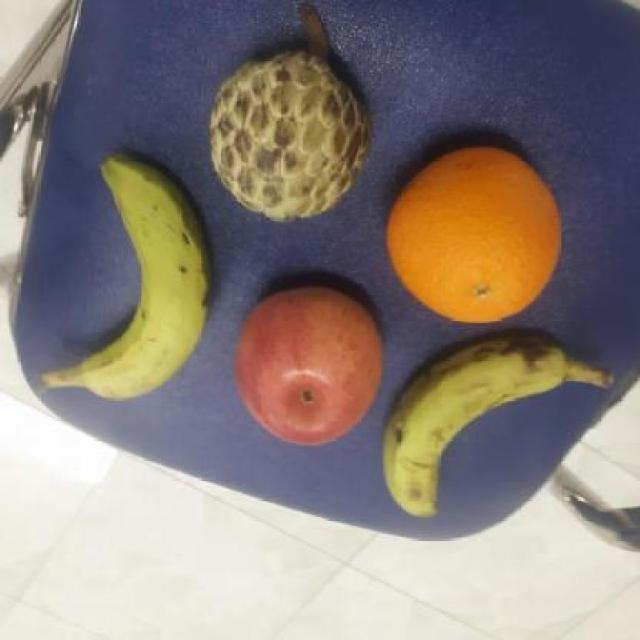apple: (231, 282, 387, 446)
banana: (378, 330, 568, 524), (72, 150, 214, 404)
oren: (386, 142, 568, 330)
sugar apple: (203, 45, 380, 220)
